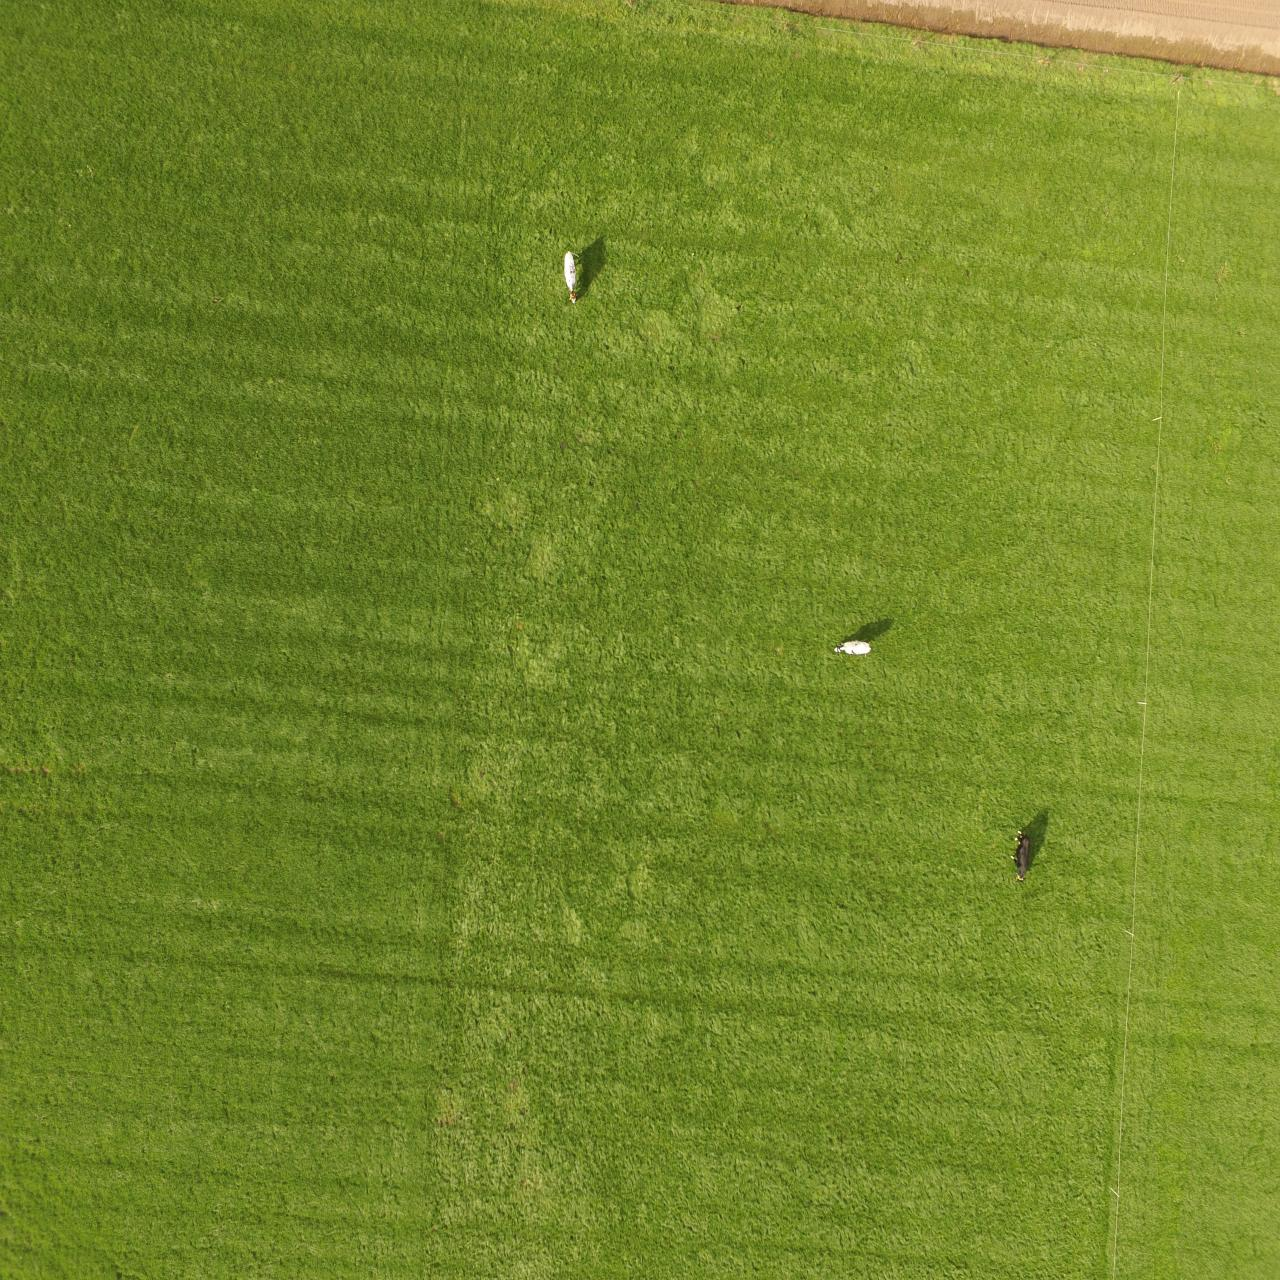cow: (1009, 829, 1035, 884), (560, 247, 581, 308), (831, 635, 874, 660)
